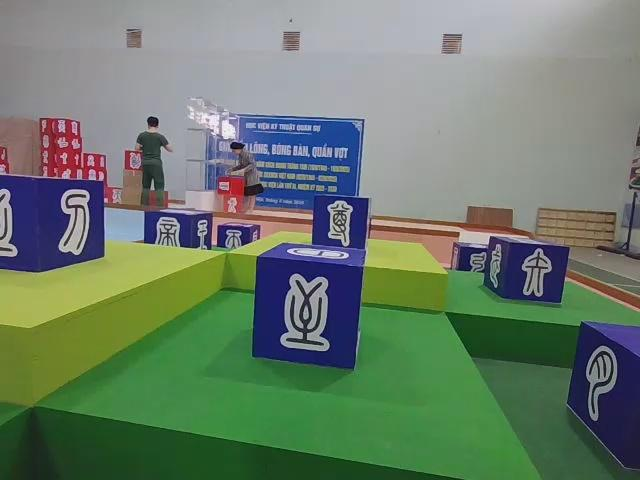R2 Fake Blue: (256, 245, 369, 374), (569, 321, 640, 478), (2, 175, 107, 275), (484, 236, 569, 306), (313, 195, 372, 251), (146, 208, 215, 249), (452, 242, 492, 273), (215, 221, 259, 248)
